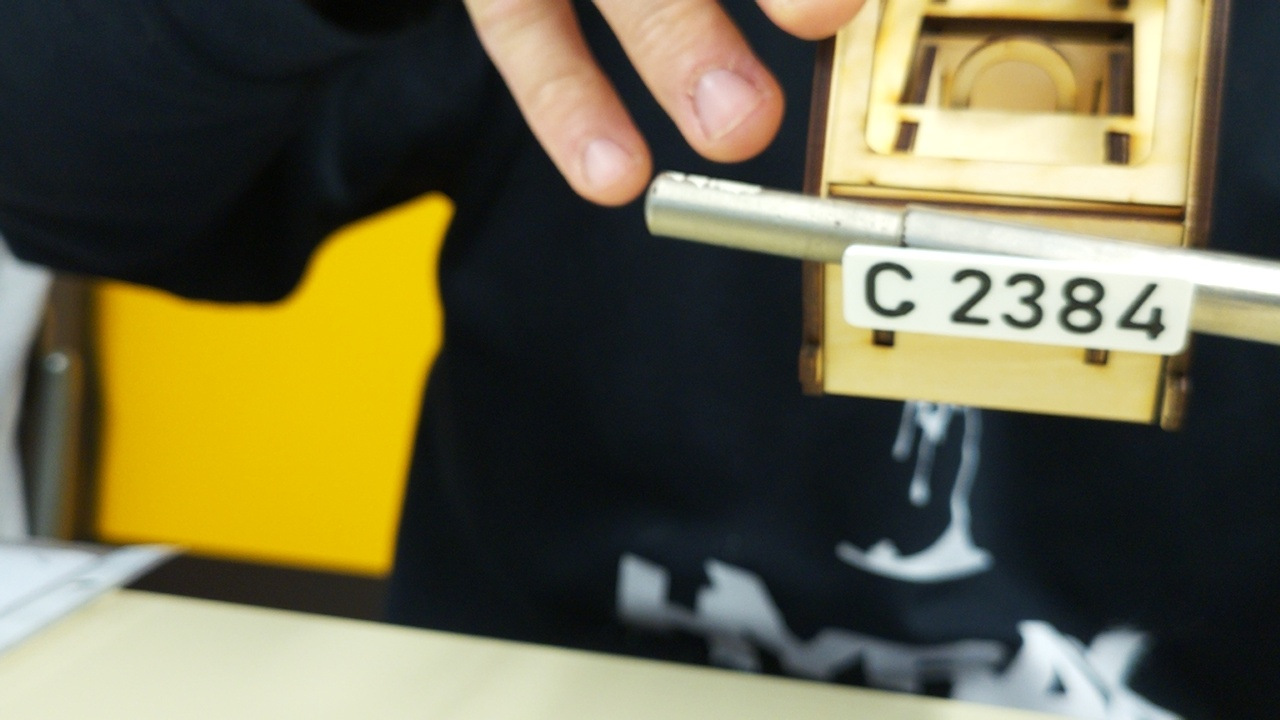license_plate: (840, 242, 1198, 357)
